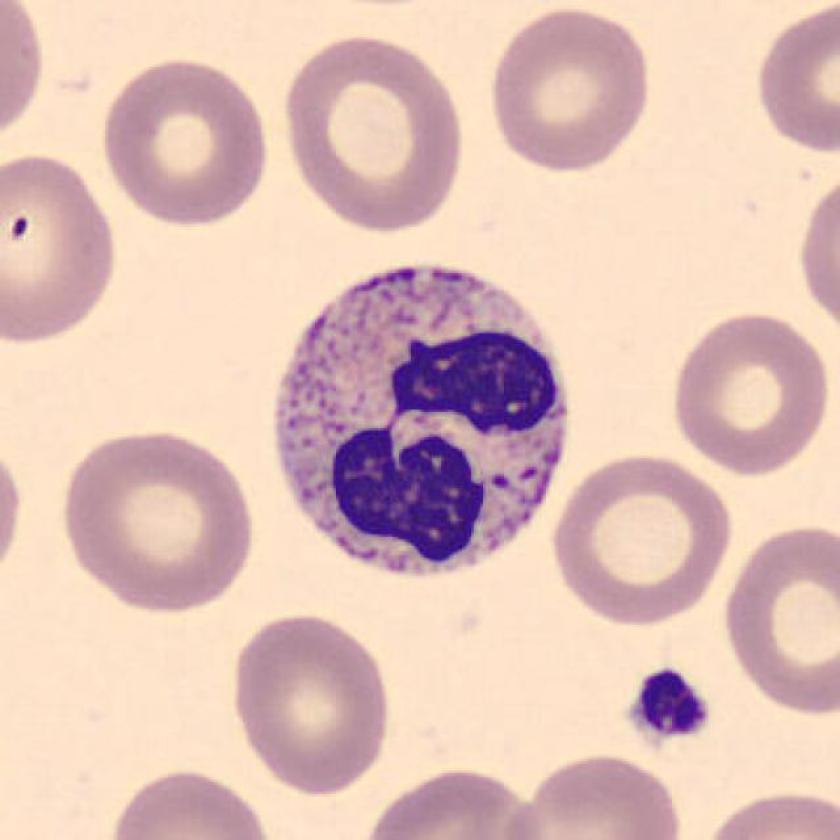neutrophil: (278, 266, 571, 577)
